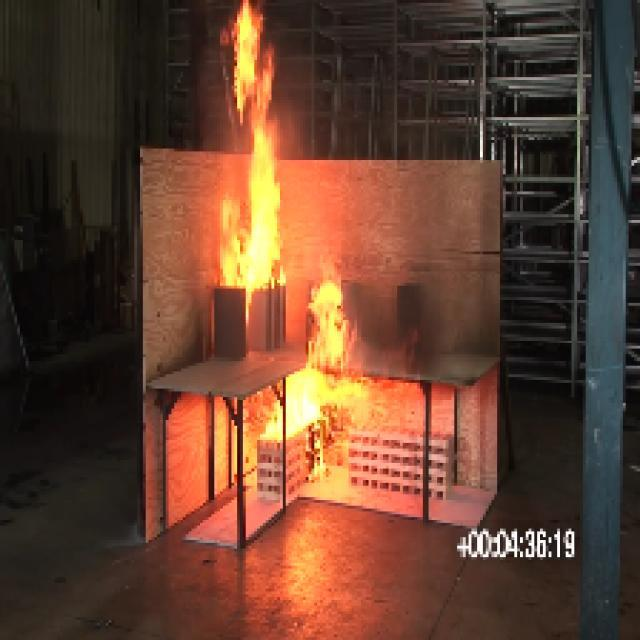Smoke: (205, 0, 284, 295)
